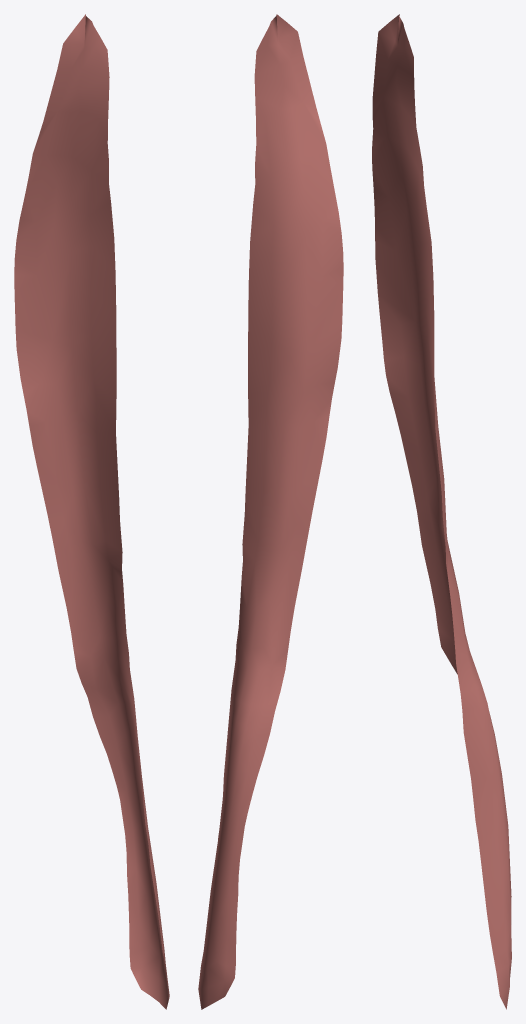
3 views of the same model, side by side, from view 1: azimuth 30°, elevation 25°; view 2: azimuth 210°, elevation 25°; view 3: azimuth 330°, elevation 25° (orthographic). The views are drawn at different scales.
Parts seen in each view (by area): view 1: ZA_7082ed11be26a273; view 2: ZA_7082ed11be26a273; view 3: ZA_7082ed11be26a273.
Boxes of the visible parts, bbox=[...] form: ZA_7082ed11be26a273: bbox=[14, 14, 169, 1009]; ZA_7082ed11be26a273: bbox=[198, 14, 343, 1009]; ZA_7082ed11be26a273: bbox=[372, 14, 511, 1009].
Bounding box in the file's own units: 0.0434 × 0.2911 × 0.0198.
